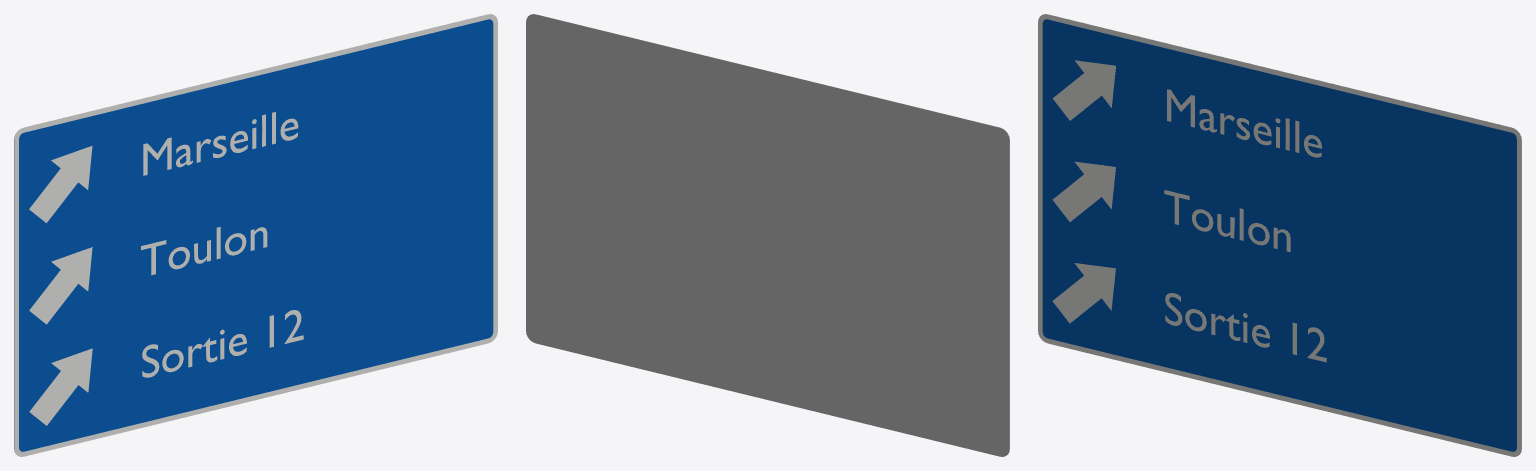
The picture shows the model from 3 angles, left to right: view 1: azimuth 30°, elevation 25°; view 2: azimuth 150°, elevation 25°; view 3: azimuth 330°, elevation 25°; orthographic projection.
Visible parts, largest first — view 1: D31f_fond01, D31f_cadre00, D31f_fl06, D31f_fl04, D31f_fl02, D31f_txt03, D31f_txt07, D31f_txt05, D31f_dos; view 2: D31f_dos; view 3: D31f_fond01, D31f_cadre00, D31f_fl06, D31f_fl04, D31f_fl02, D31f_txt03, D31f_txt07, D31f_txt05, D31f_dos.
Boxes of the visible parts, <box> form: D31f_fond01: <box>19,19,493,451</box>; D31f_cadre00: <box>14,14,497,456</box>; D31f_fl06: <box>29,348,92,425</box>; D31f_fl04: <box>29,247,92,324</box>; D31f_fl02: <box>29,145,92,222</box>; D31f_txt03: <box>143,112,298,175</box>; D31f_txt07: <box>142,310,303,377</box>; D31f_txt05: <box>141,227,267,275</box>; D31f_dos: <box>14,14,490,451</box>; D31f_dos: <box>526,14,1009,456</box>; D31f_fond01: <box>1042,19,1516,451</box>; D31f_cadre00: <box>1038,14,1521,456</box>; D31f_fl06: <box>1052,263,1115,323</box>; D31f_fl04: <box>1052,161,1115,221</box>; D31f_fl02: <box>1053,60,1115,120</box>; D31f_txt03: <box>1167,89,1321,157</box>; D31f_txt07: <box>1165,293,1326,362</box>; D31f_txt05: <box>1164,190,1290,252</box>; D31f_dos: <box>1045,14,1521,451</box>.
Size of the model in its own units: 2 by 1.3 by 0.0045.
